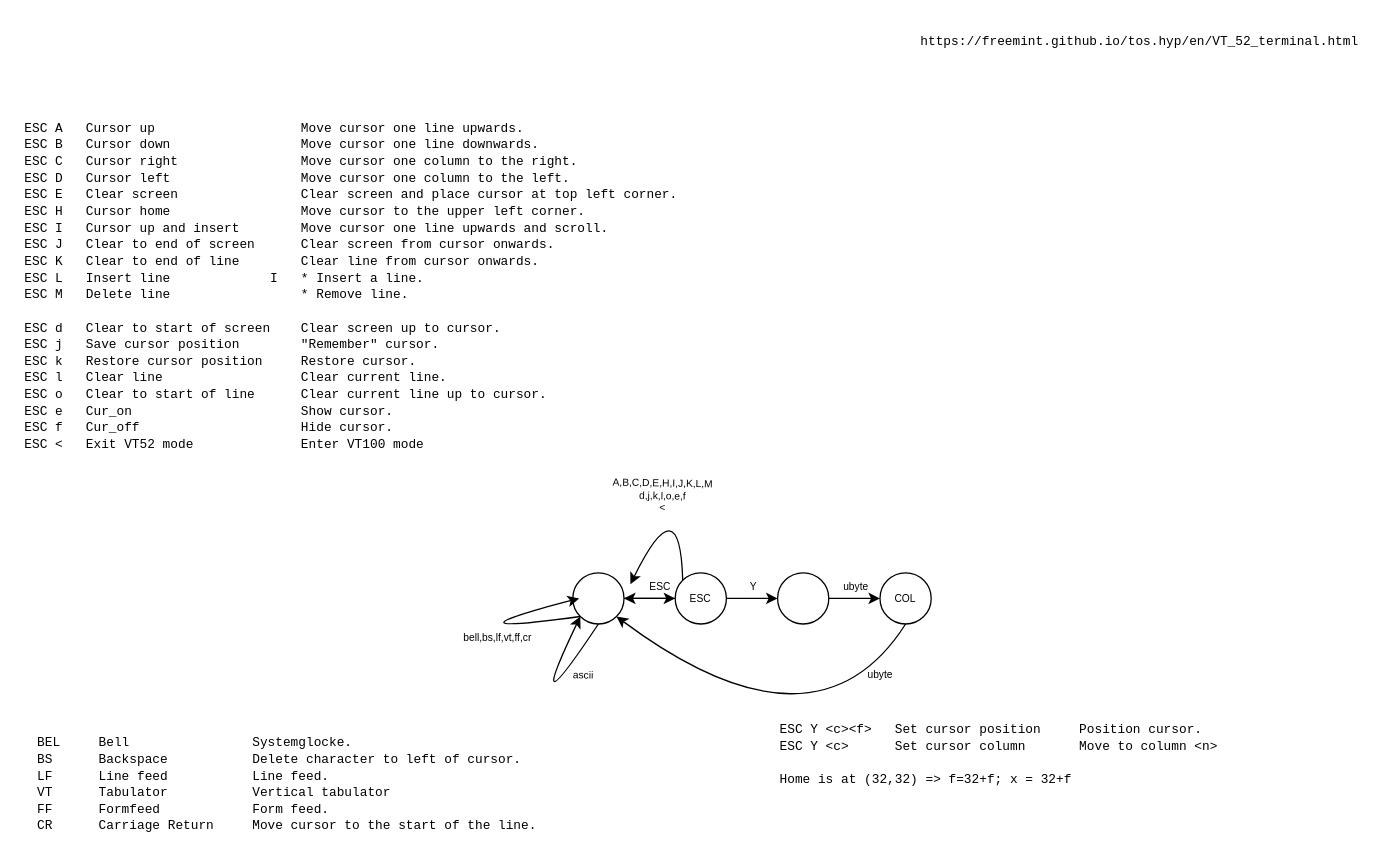
This 1388x863 diagram has some shape labels left out. The centre of each missing label's shape, as x and y in pixels:
"IDLE" belongs at [598,598].
"ROW" belongs at [802,598].
